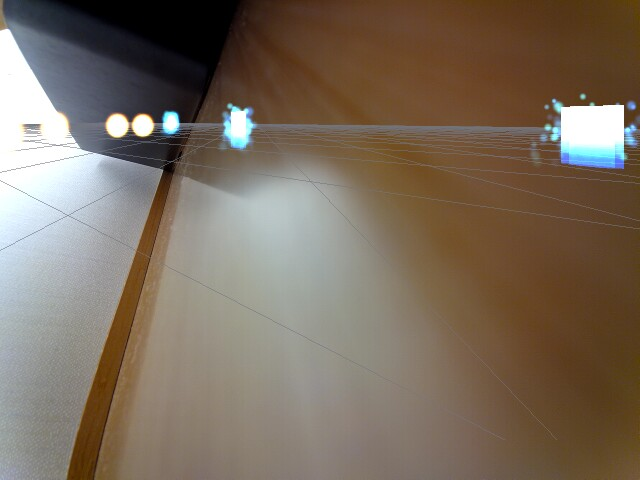firebig: (35, 99, 76, 157)
